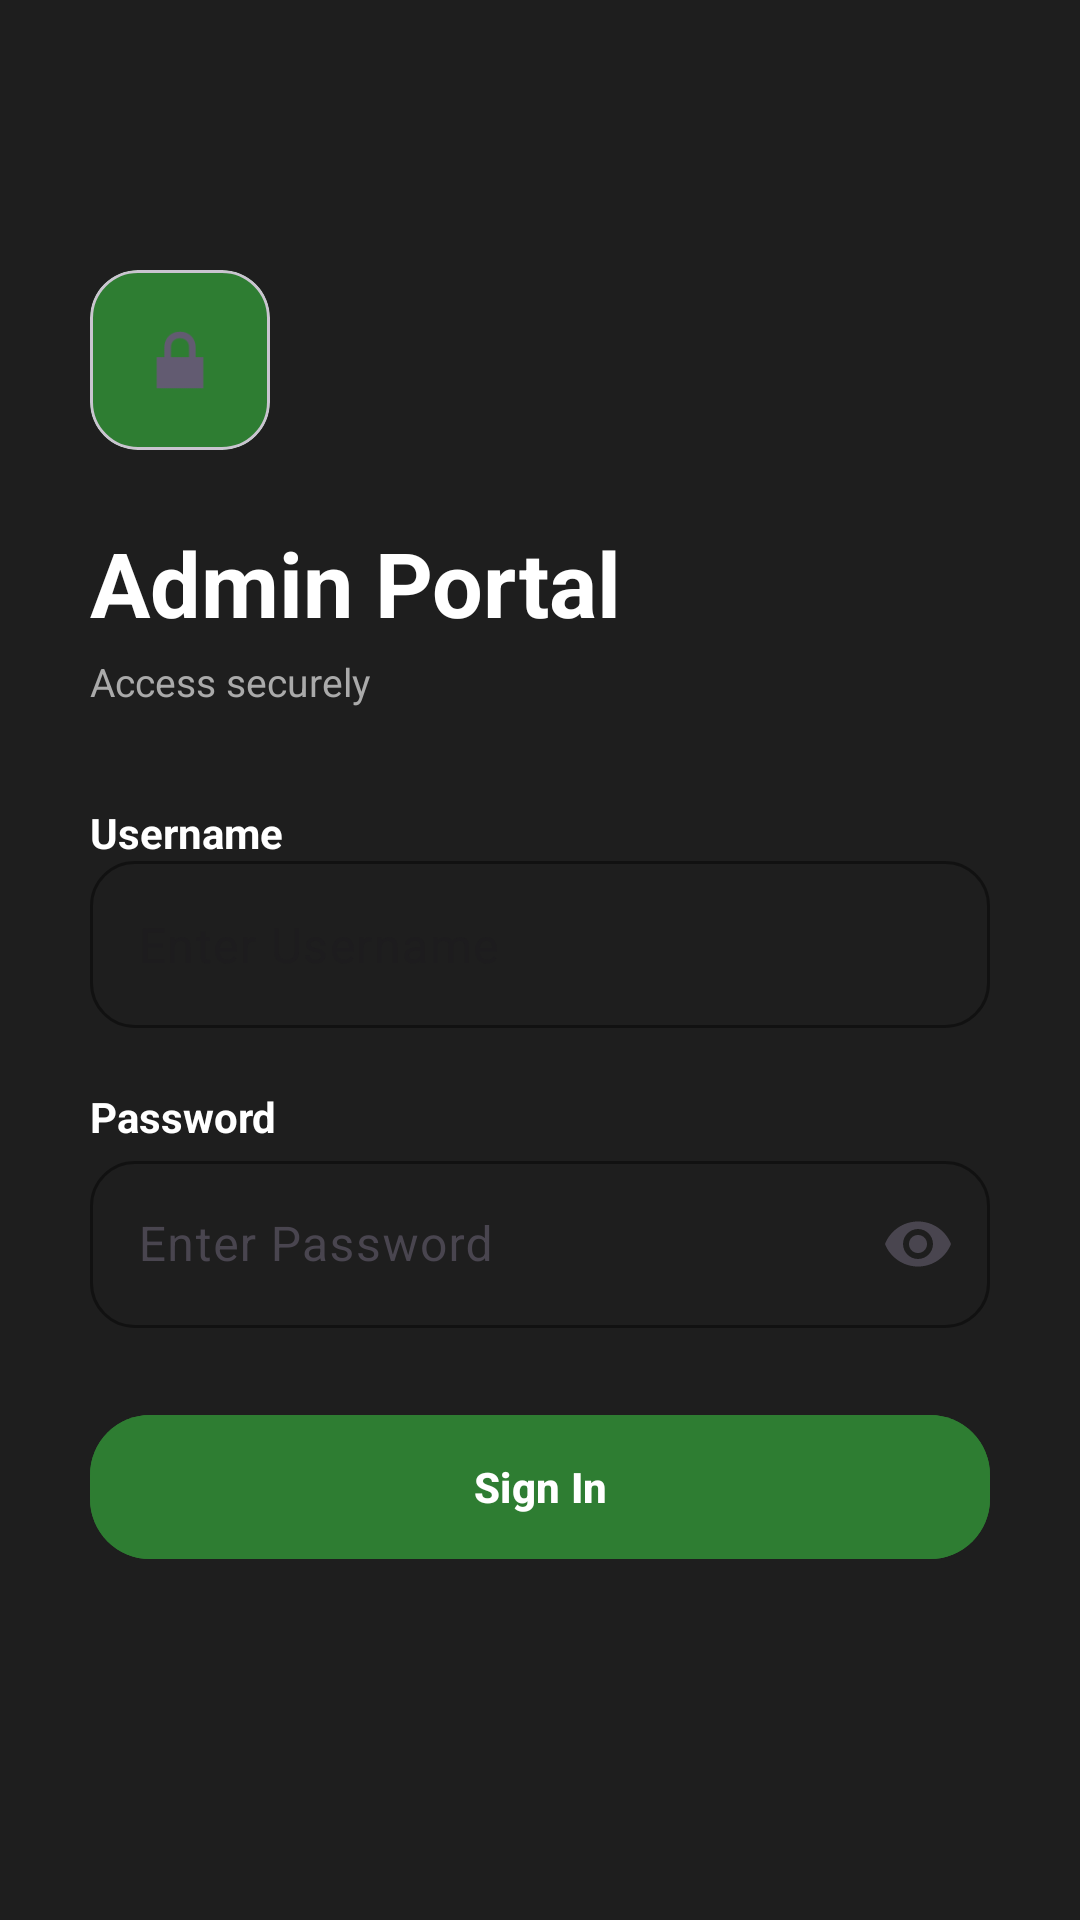

Icons on this 1080px×1920px Android screen, each with its box as (x1, y1, x2, y2):
lock: (157, 332, 204, 388)
